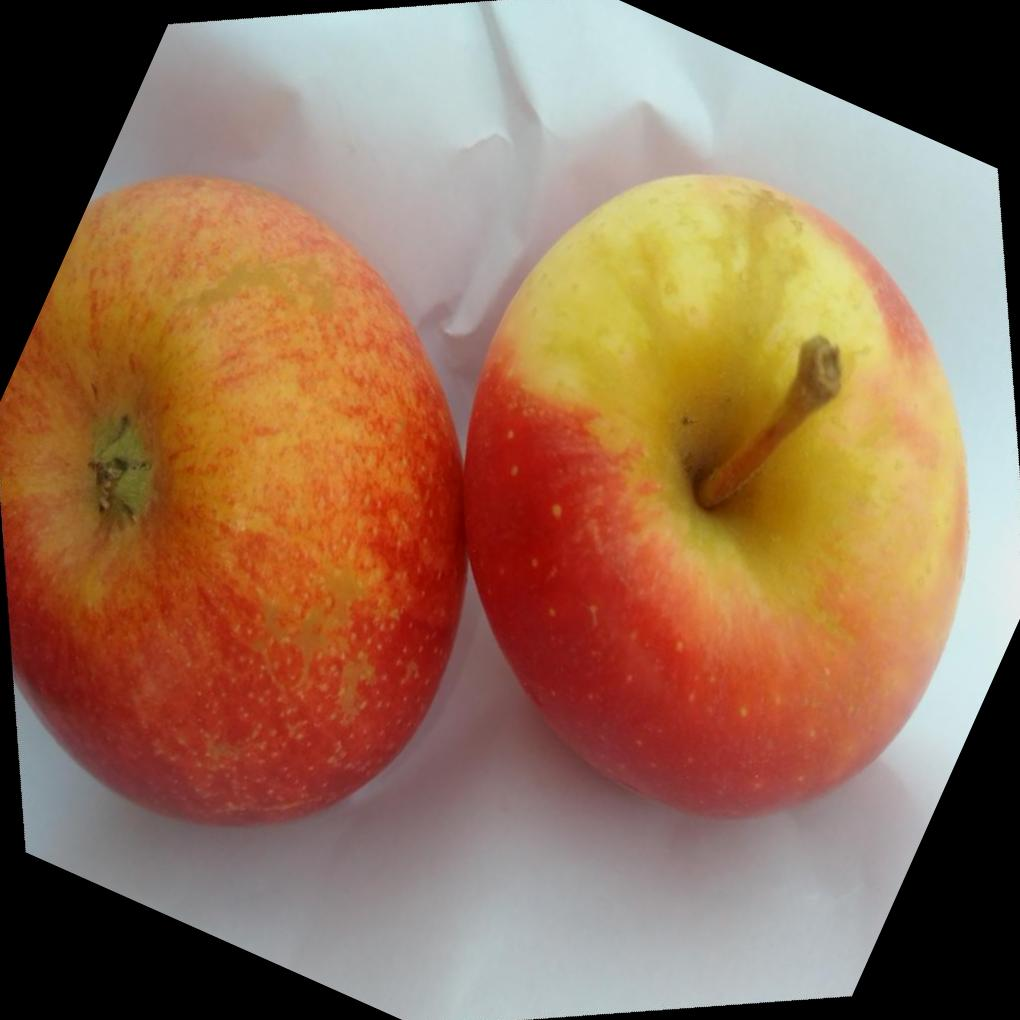FreshGuava: (0, 173, 969, 833)
